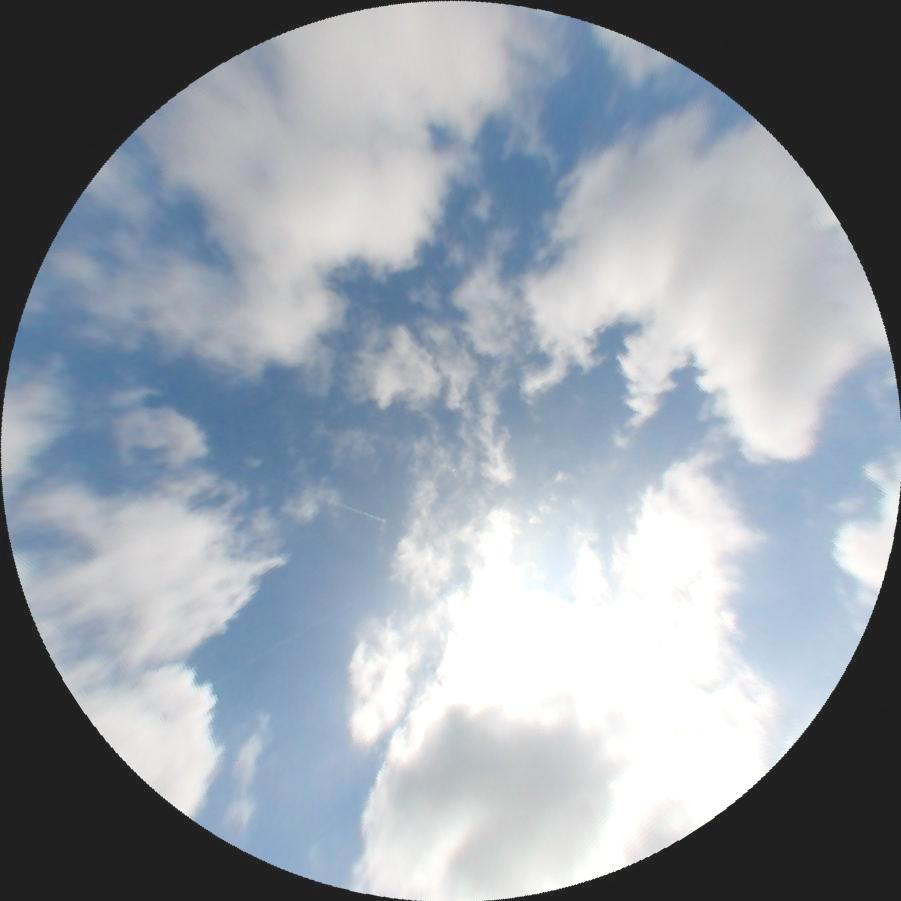contrail young: (206, 452, 386, 523)
parasite: (209, 629, 301, 687)
sun: (431, 560, 598, 725)
